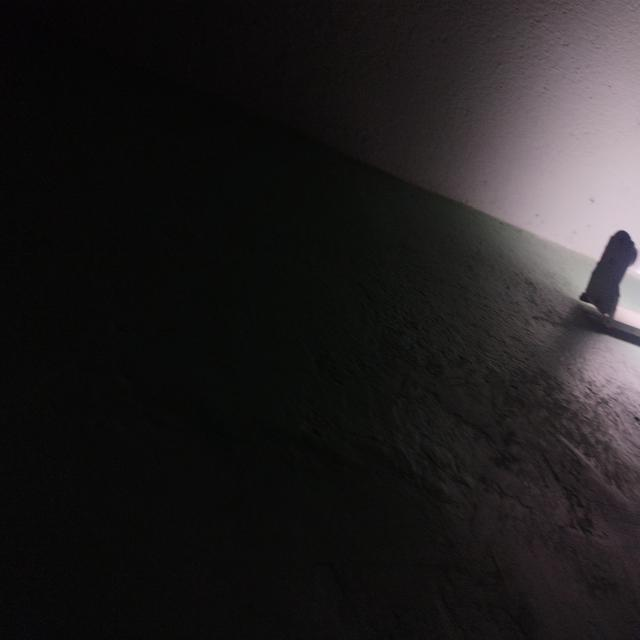tubelight_on: (580, 223, 638, 335)
